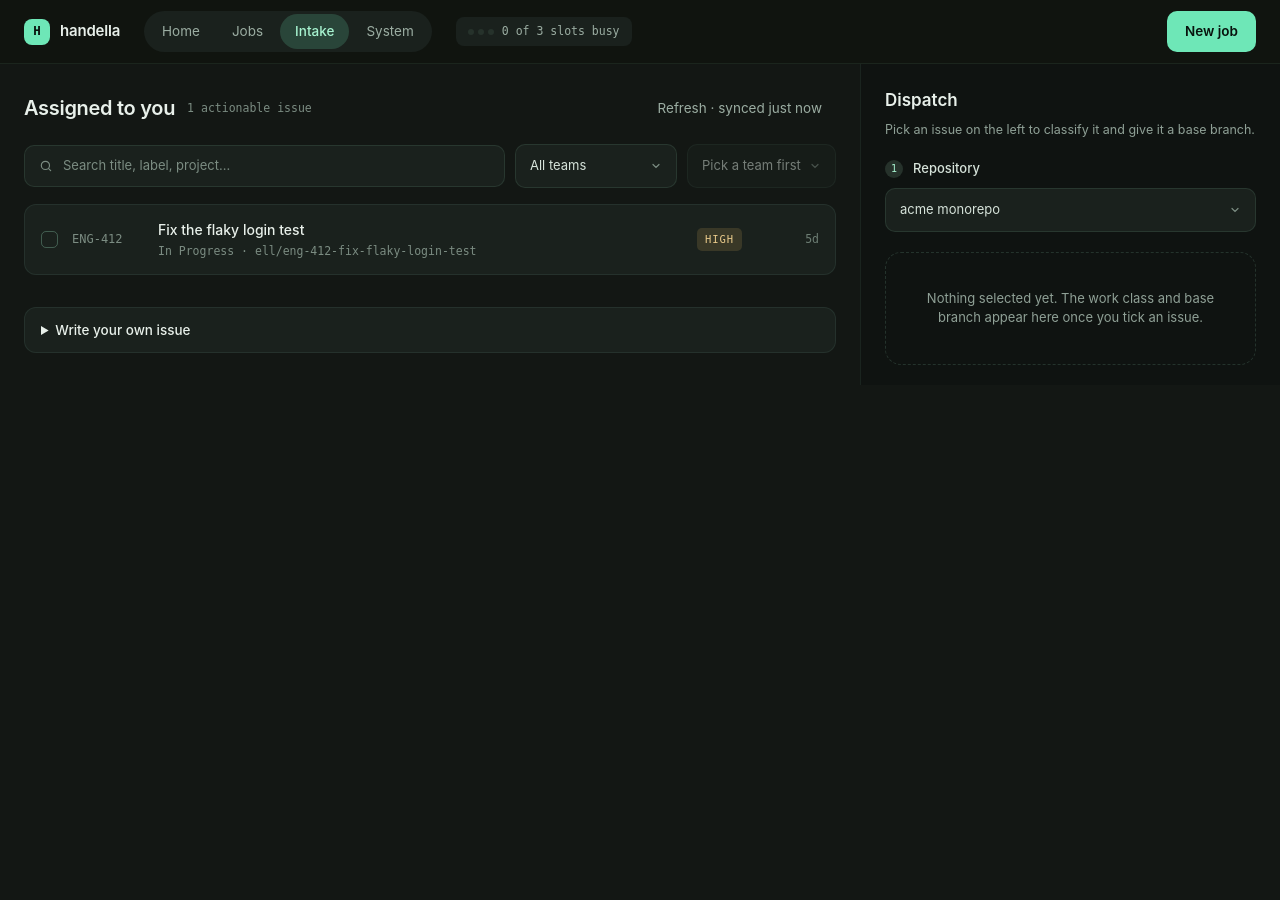
Test case: creating jobs from a selection › refuses the batch while Linear has not named a branch for a selection
Click the checkbox named "Select ENG-412" at (50, 239), box [41,231,58,248]
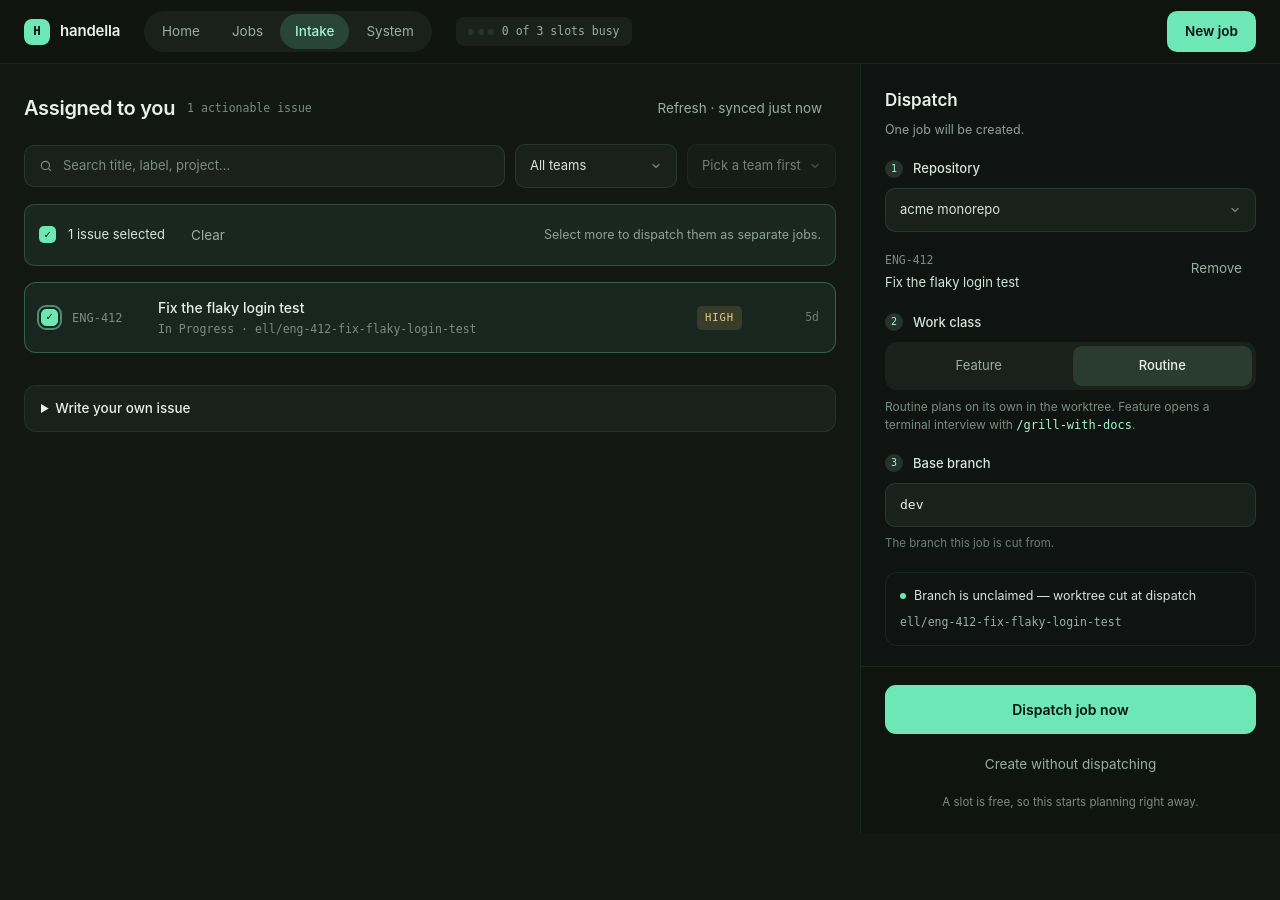
Type "exporter" into the field named "Search issues" at (276, 166), box [63,156,490,176]
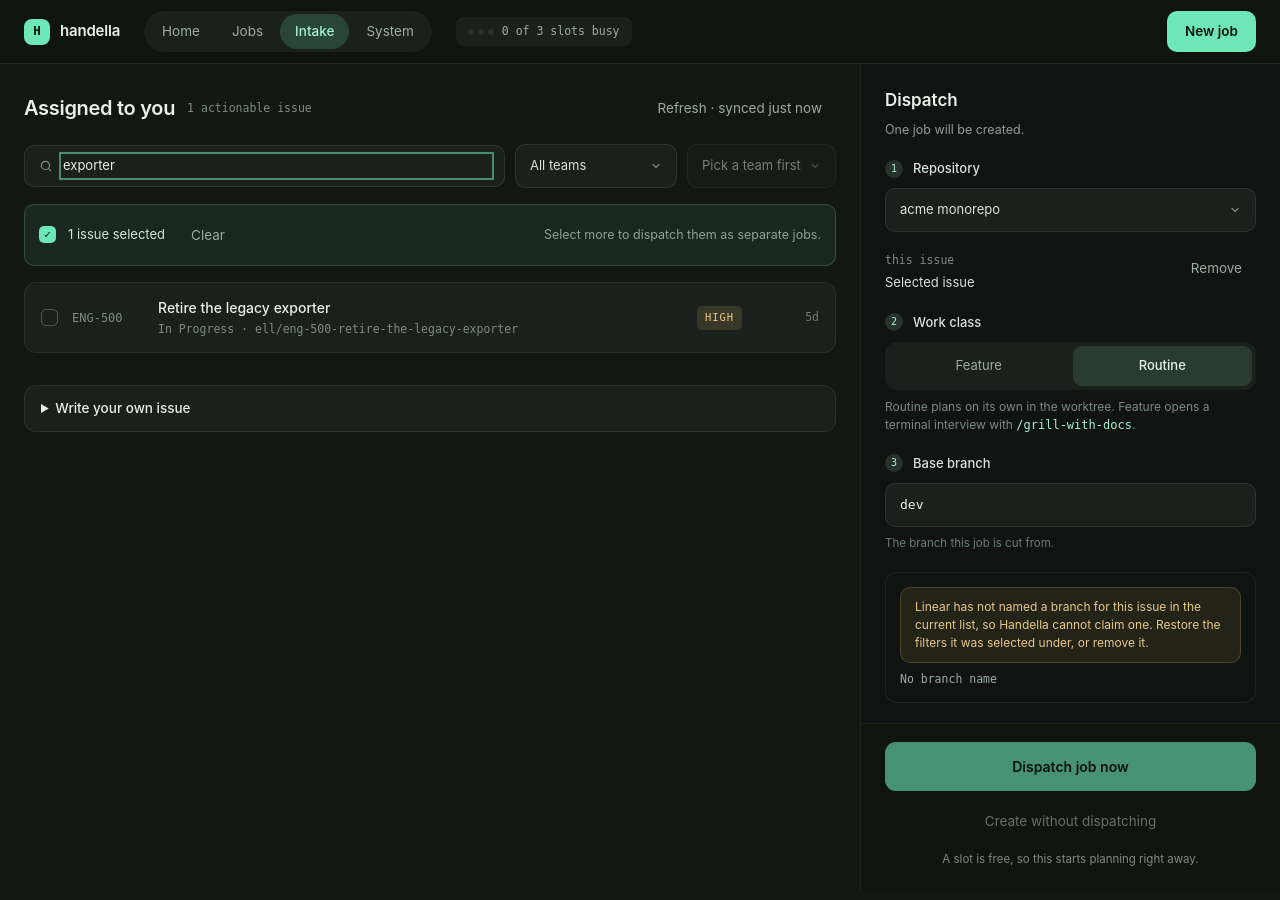
Now the text "Retire the legacy exporter" is shown, box [158,299,330,316]
Now the text "Linear has not named a branch for this issue" is shown, box [915,599,1221,650]
Now the button "Dispatch job now" is disabled, box [885,742,1256,791]
